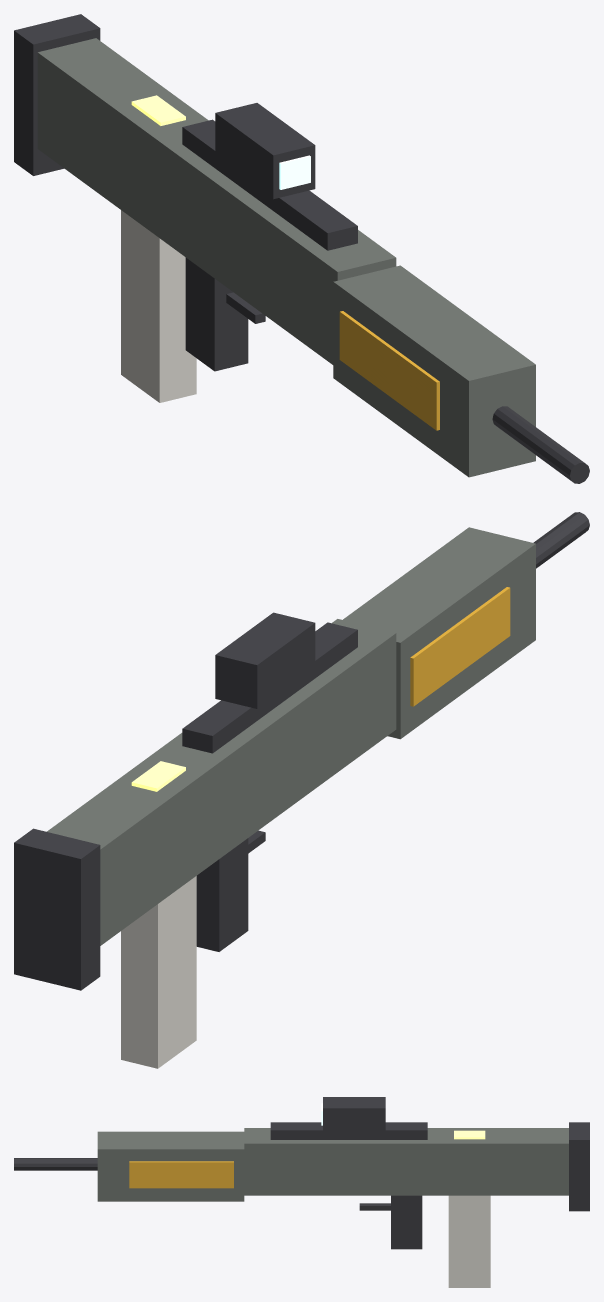
Rendered from weapon_F1_AssaultRifle.glb.
3 views of the same model, one above another, from view 1: azimuth 30°, elevation 25°; view 2: azimuth 150°, elevation 25°; view 3: azimuth 270°, elevation 25° (orthographic). The views are drawn at different scales.
Visible parts, largest first — view 1: Body, Mag; view 2: Body, Mag; view 3: Body, Mag.
Part boxes in pixels (x1,y1,x2,y2): Body: (14,14,589,483); Mag: (121,210,196,402); Body: (14,512,589,990); Mag: (121,876,196,1068); Body: (14,1097,589,1249); Mag: (448,1195,490,1287).
Size of the model in its own units: 0.088 by 0.38 by 1.1.
